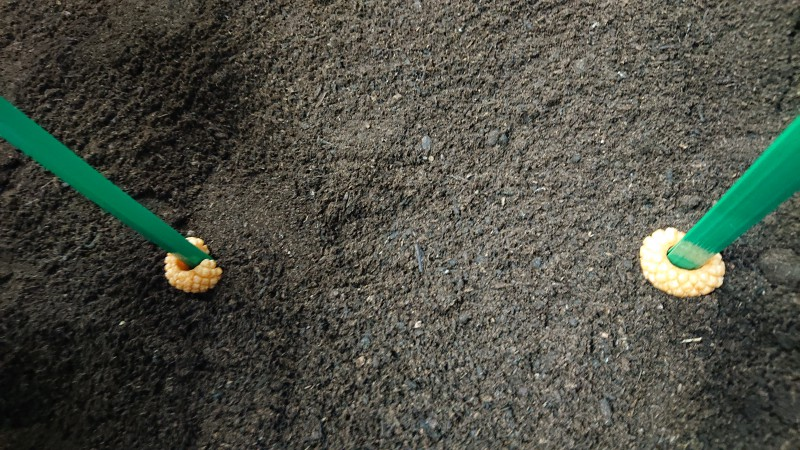eggs: (634, 222, 730, 301), (159, 232, 229, 294)
